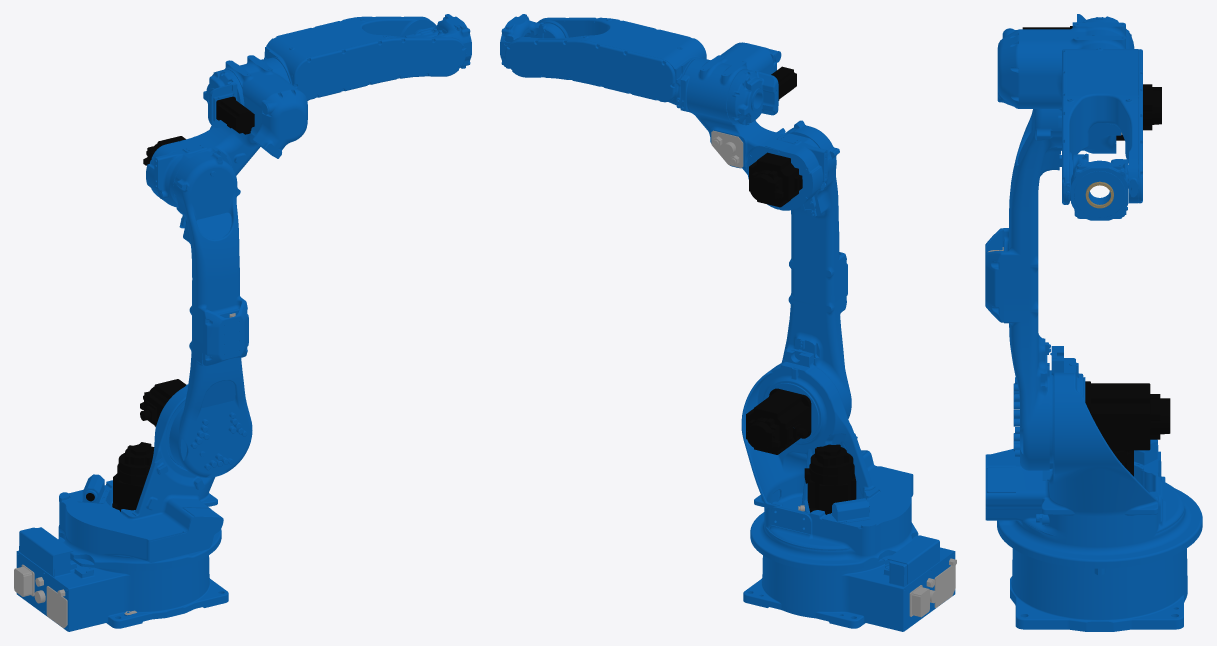
File: Yaskawa_AR1730.glb
3 renders of one model, left to right at view 1: azimuth 30°, elevation 25°; view 2: azimuth 150°, elevation 25°; view 3: azimuth 270°, elevation 25°, orthographic. The views are drawn at different scales.
Visible parts, largest first — view 1: link_2, link_1, link_0, link_4, link_3, link_5; view 2: link_1, link_3, link_0, link_4, link_2, link_5; view 3: link_1, link_2, link_0, link_3, link_4, link_5.
Boxes of the visible parts, bbox=[...] form: link_2: bbox=[169, 153, 252, 477]; link_1: bbox=[58, 379, 223, 571]; link_0: bbox=[14, 527, 228, 631]; link_4: bbox=[264, 16, 466, 100]; link_3: bbox=[143, 55, 307, 228]; link_5: bbox=[405, 14, 471, 68]; link_1: bbox=[741, 348, 918, 571]; link_3: bbox=[680, 42, 827, 210]; link_0: bbox=[743, 535, 956, 631]; link_4: bbox=[505, 17, 706, 108]; link_2: bbox=[781, 120, 851, 418]; link_5: bbox=[500, 14, 565, 68]; link_1: bbox=[985, 346, 1202, 575]; link_2: bbox=[985, 109, 1061, 470]; link_0: bbox=[1010, 451, 1187, 631]; link_3: bbox=[997, 14, 1161, 153]; link_4: bbox=[1062, 47, 1142, 204]; link_5: bbox=[1071, 153, 1128, 220].
Bounding box in the file's own units: 1.39 × 1.57 × 0.484.
